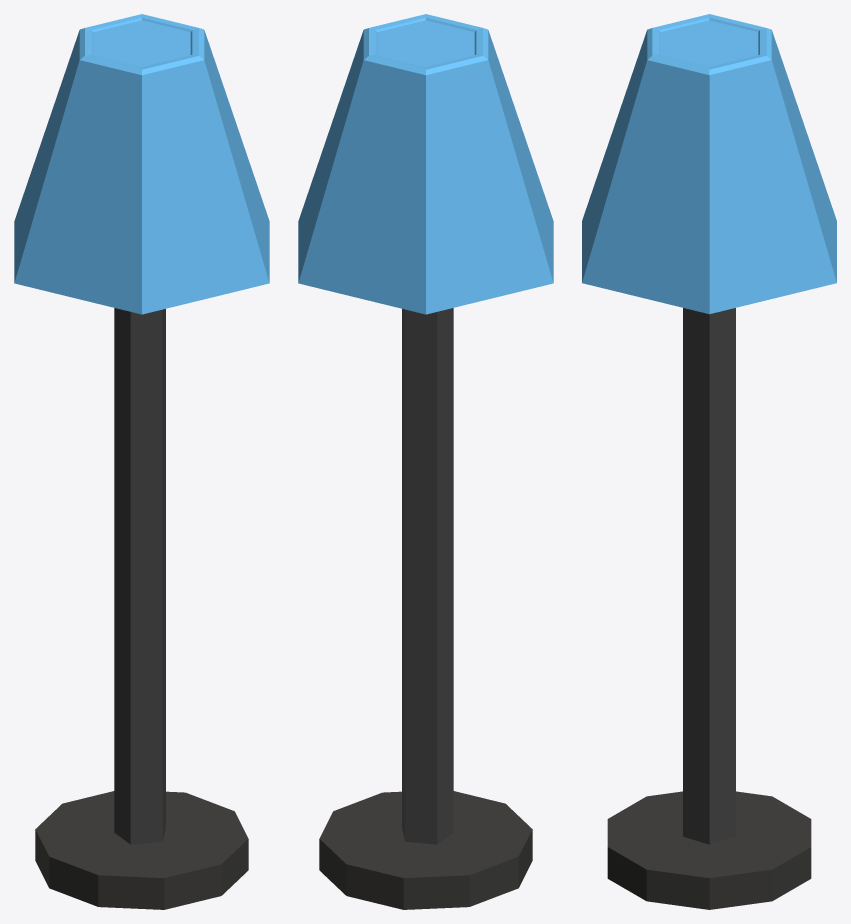
File: Lamp_1B.fbx
3 views of the same model, side by side, from view 1: azimuth 30°, elevation 25°; view 2: azimuth 150°, elevation 25°; view 3: azimuth 270°, elevation 25° (orthographic).
Parts seen in each view (by area): view 1: polySurface2320; view 2: polySurface2320; view 3: polySurface2320.
Part boxes in pixels (<box>): polySurface2320: <box>14,14,269,909</box>; polySurface2320: <box>298,14,553,909</box>; polySurface2320: <box>582,14,836,909</box>.
Bounding box in the file's own units: 0.7403 × 2.28 × 0.6411.
Materials: 1 (1 with a texture image).
